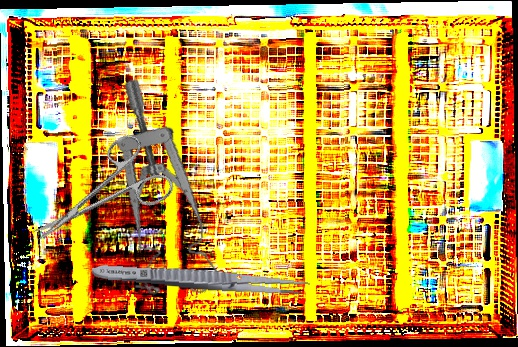Dressing Forceps: (91, 260, 311, 298)
Iris Scissors: (14, 126, 178, 267)
Speculum: (91, 76, 245, 305)
